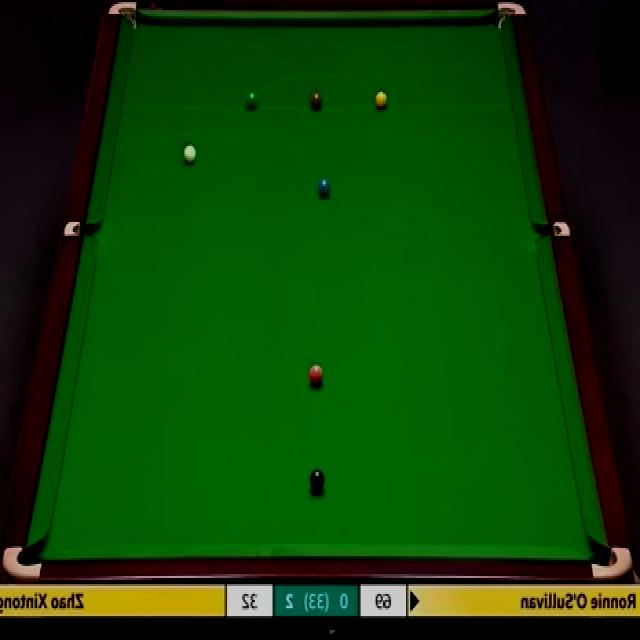pocket: (2, 543, 46, 583), (589, 543, 635, 580), (496, 0, 528, 34), (108, 0, 138, 31), (64, 218, 99, 236), (536, 221, 574, 237)
